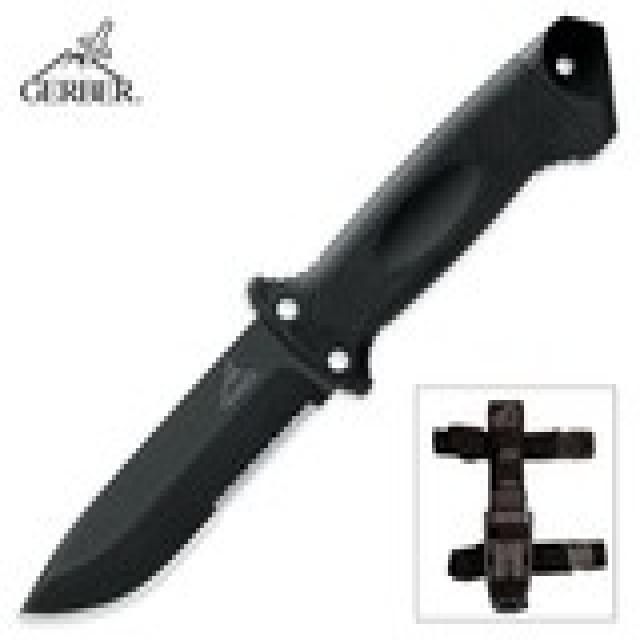Knife: (20, 5, 608, 640)
